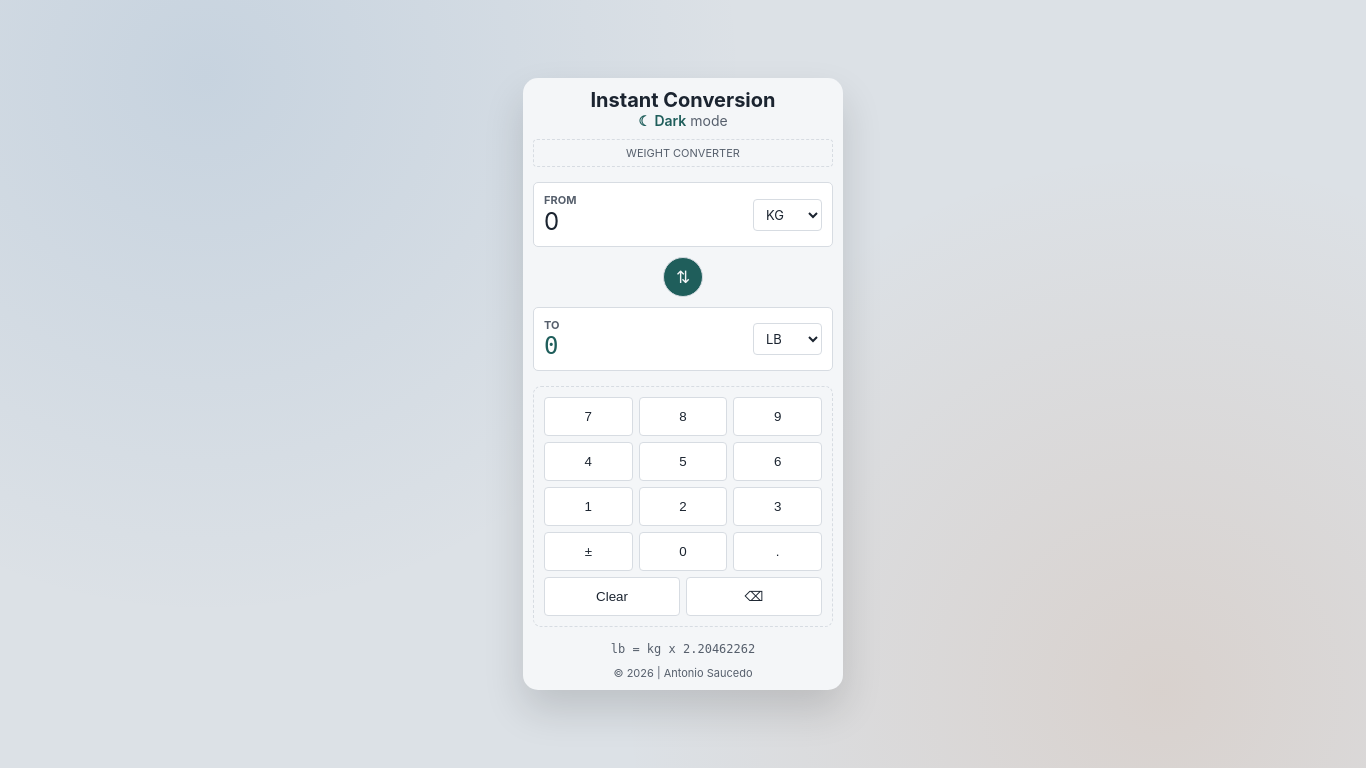
Scenario: App › converts 1 kg to lb by default
The width and height of the screenshot is (1366, 768).
Click the button "1": (588, 506) [544,487,633,526]
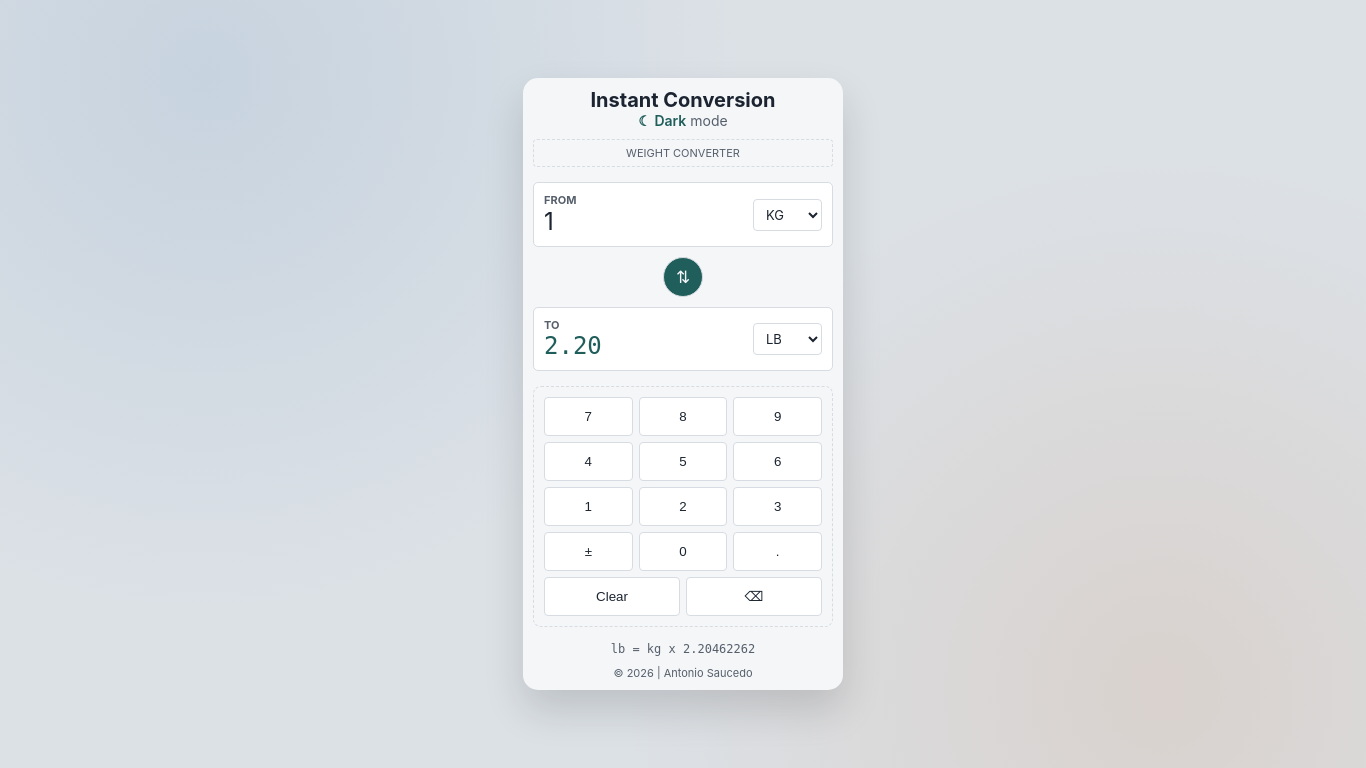
Expected: the text with id "conversion-value" shows "2.2", [544,332,602,360]
